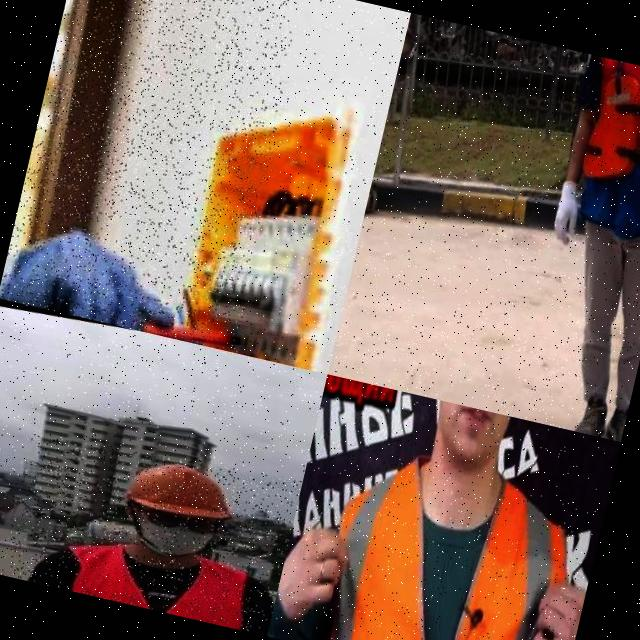boots: (566, 388, 616, 438), (600, 395, 630, 442)
helmet: (109, 442, 252, 534)
vest: (302, 451, 589, 640), (67, 530, 257, 630), (554, 54, 640, 244)
